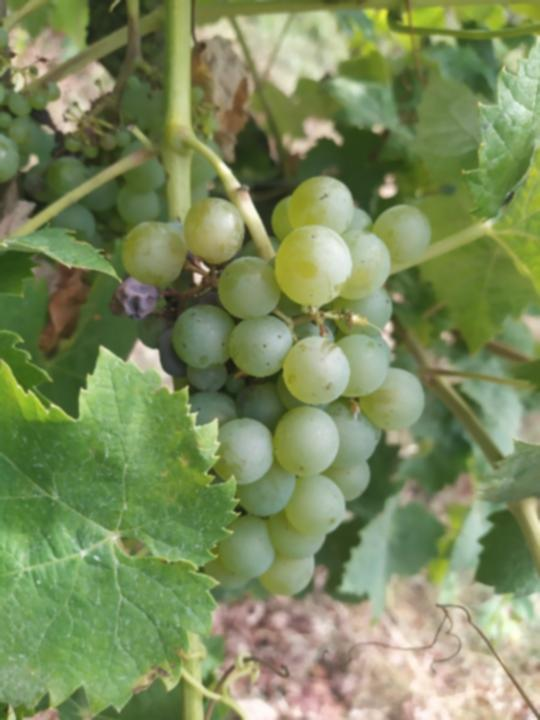grape: (117, 173, 433, 600)
